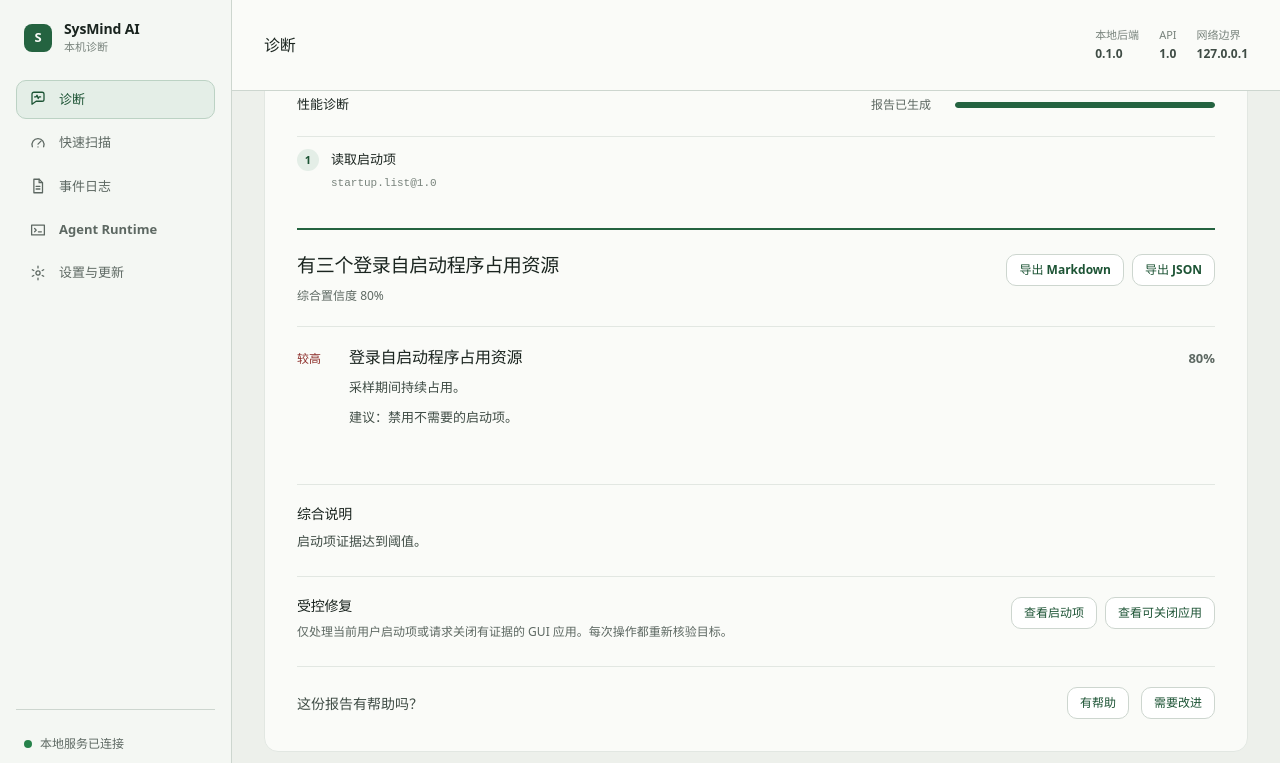
Test: controlled action recovery across navigation › restores the outcome and the recovery entry point after leaving and returning
(page scrolled)
# Execute a recoverable controlled action from the diagnosis section.
Click the button "查看启动项". click: (1054, 613)
box: [1011,597,1097,629]
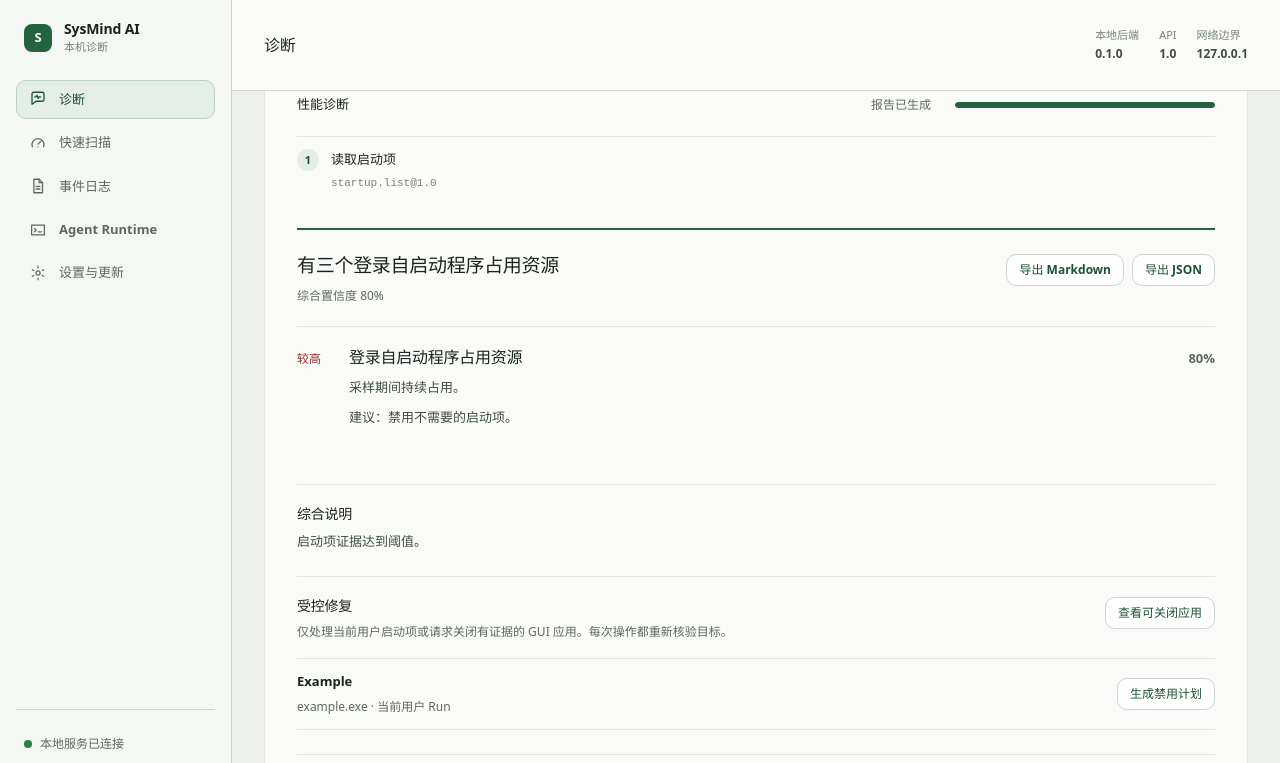
Click the button "生成禁用计划". click: (1166, 694)
box: [1117,678,1215,710]
(page scrolled)
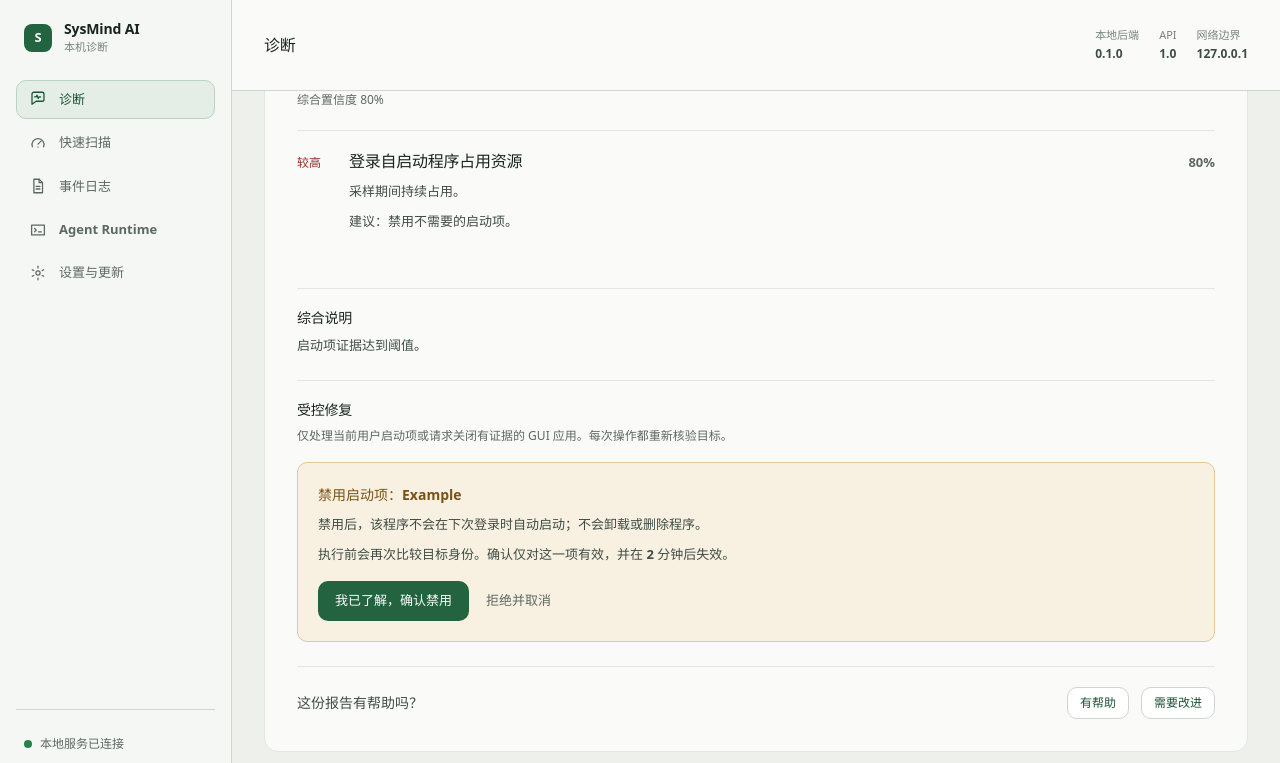
Click the button "我已了解，确认禁用". click: (394, 601)
box: [318,581,469,621]
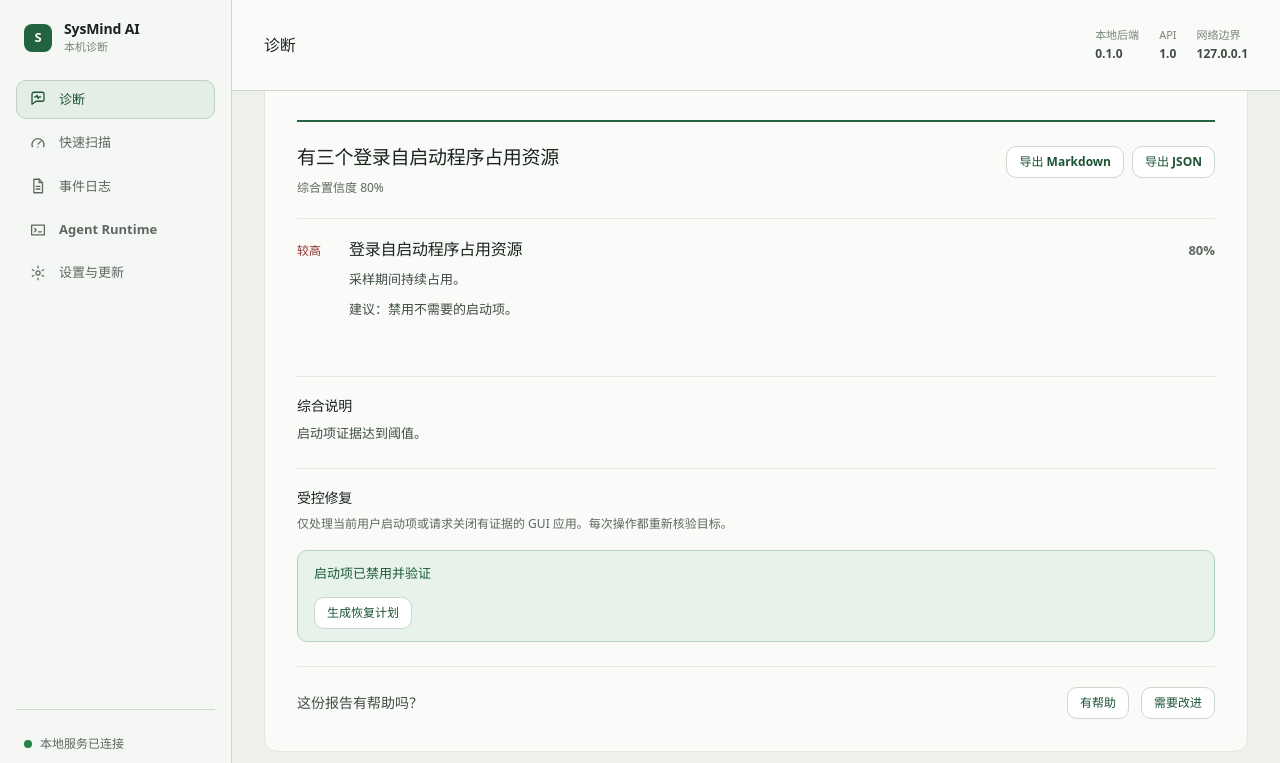
Expected: the text "启动项已禁用并验证" is shown, [314,563,431,585]
Expected: the button "生成恢复计划" is shown, [314,597,412,629]
# Leave the diagnosis section: the panel unmounts and its state is gone.
Click the button "快速扫描". click: (116, 143)
box: [16,123,215,162]
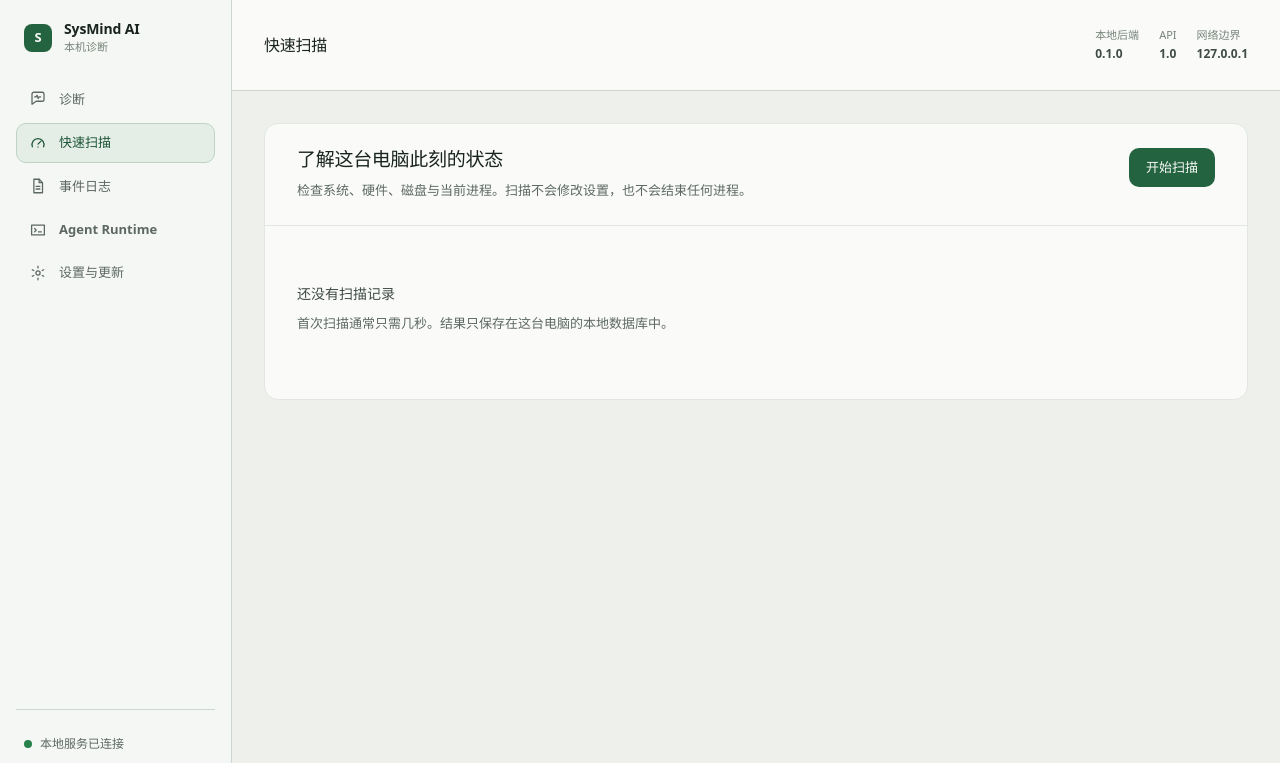
Expected: the heading "快速扫描" is shown, [264,35,327,55]
Expected: the text "启动项已禁用并验证" is gone
Click the button "诊断". click: (116, 99)
box: [16,80,215,119]
(page scrolled)
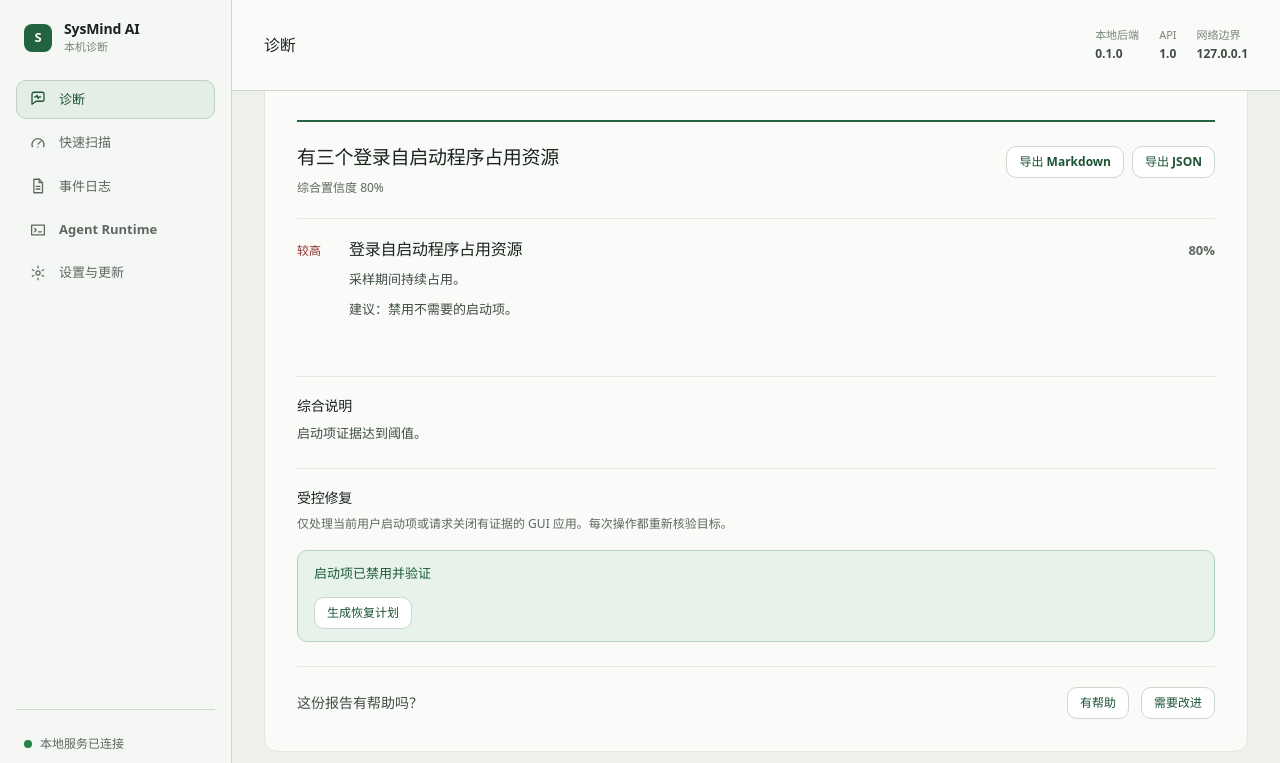
Expected: the text "启动项已禁用并验证" is shown, [314,563,431,585]
Expected: the button "生成恢复计划" is shown
# The user can still complete the recovery from the restored entry point.
Click the button "生成恢复计划". click: (363, 613)
box: [314,597,412,629]
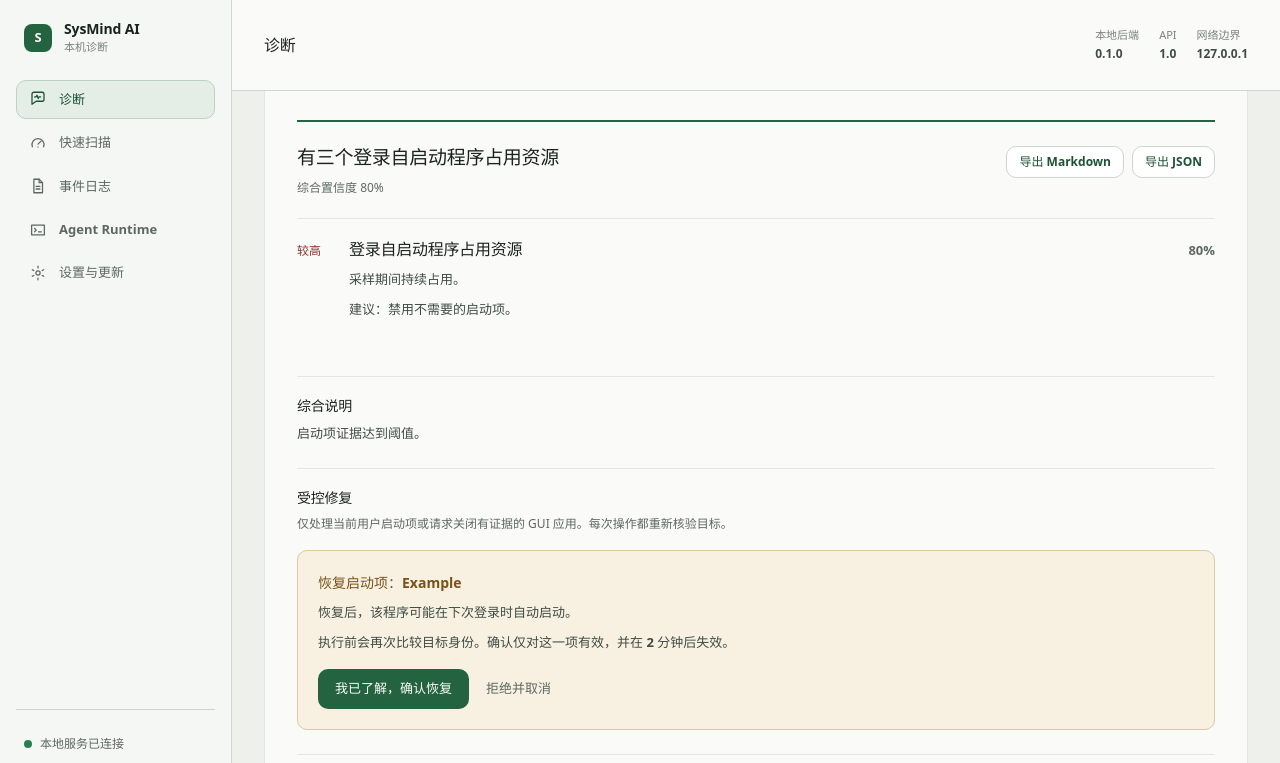
Expected: the text "恢复后，该程序可能在下次登录时自动启动。" is shown, [318,603,578,621]
